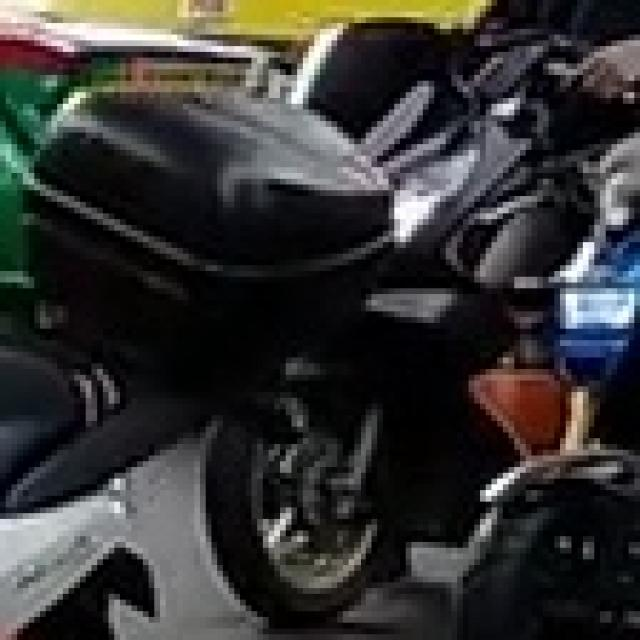helmet: (17, 75, 394, 375)
tyre: (200, 386, 406, 623), (452, 444, 634, 634)
